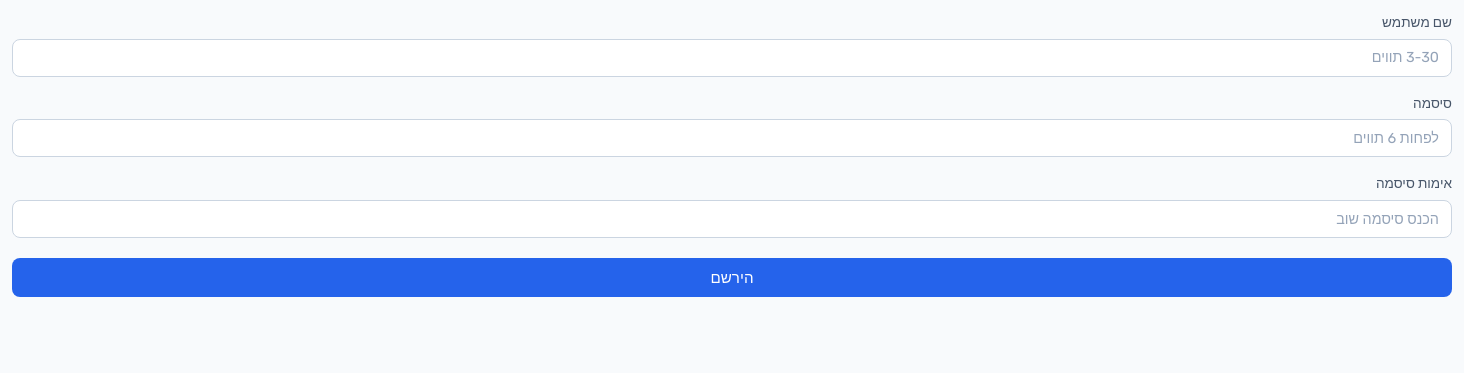
Test: RegisterForm › displays API error message on registration failure
Type "existinguser" into the field labelled "שם משתמש" at x=732, y=58, box [12,38,1452,77]
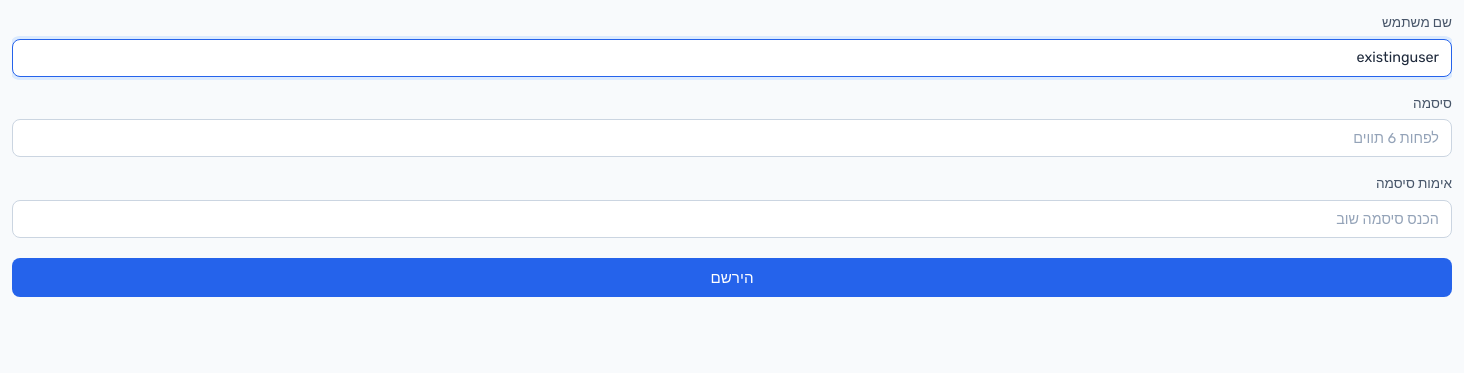
Type "password123" into the password field labelled "סיסמה" at x=732, y=138, box [12,119,1452,158]
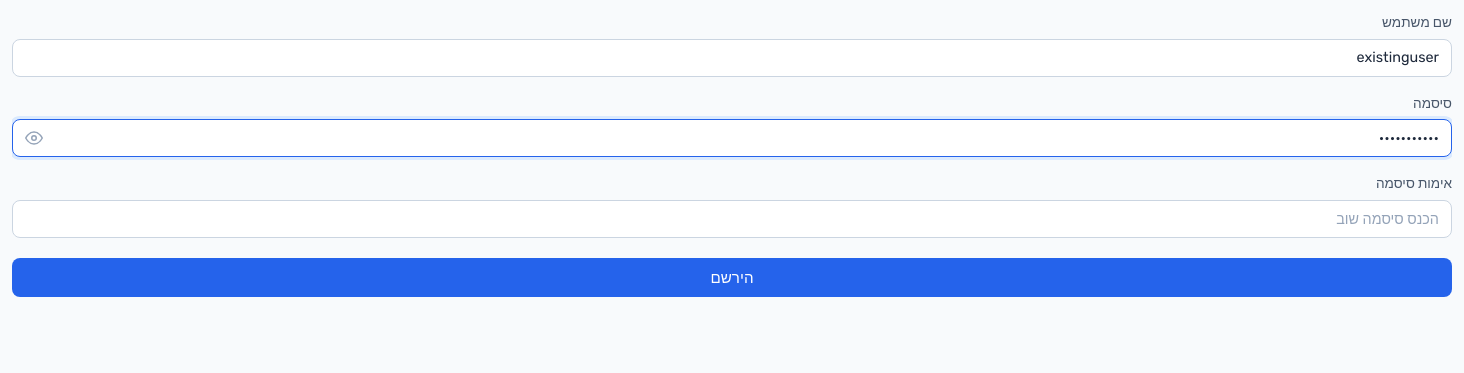
Type "password123" into the password field labelled "אימות סיסמה" at x=732, y=219, box [12,200,1452,238]
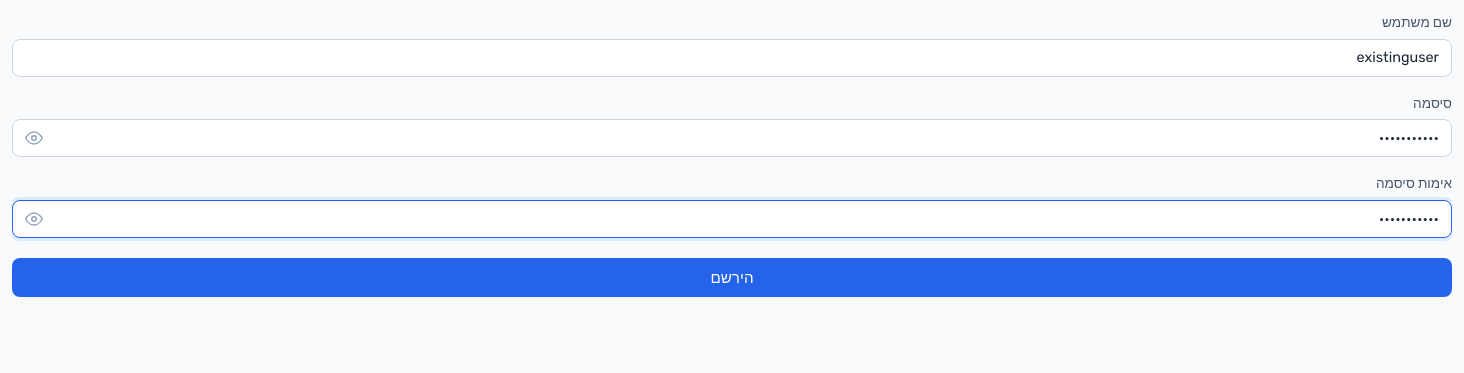
Click the button "הירשם" at x=732, y=278, box [12,258,1452,297]
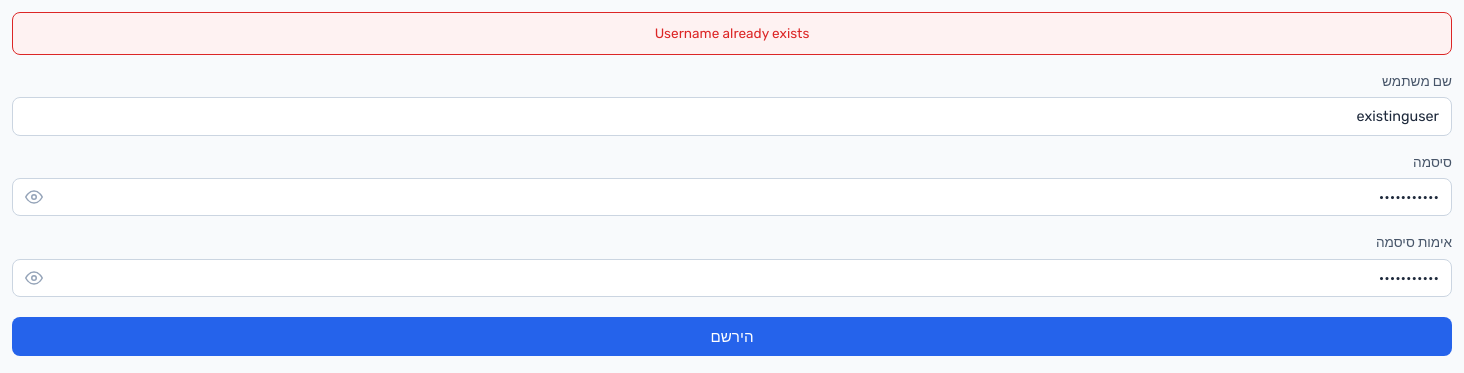
Expected: the text "Username already exists" is shown, [12,12,1452,55]
